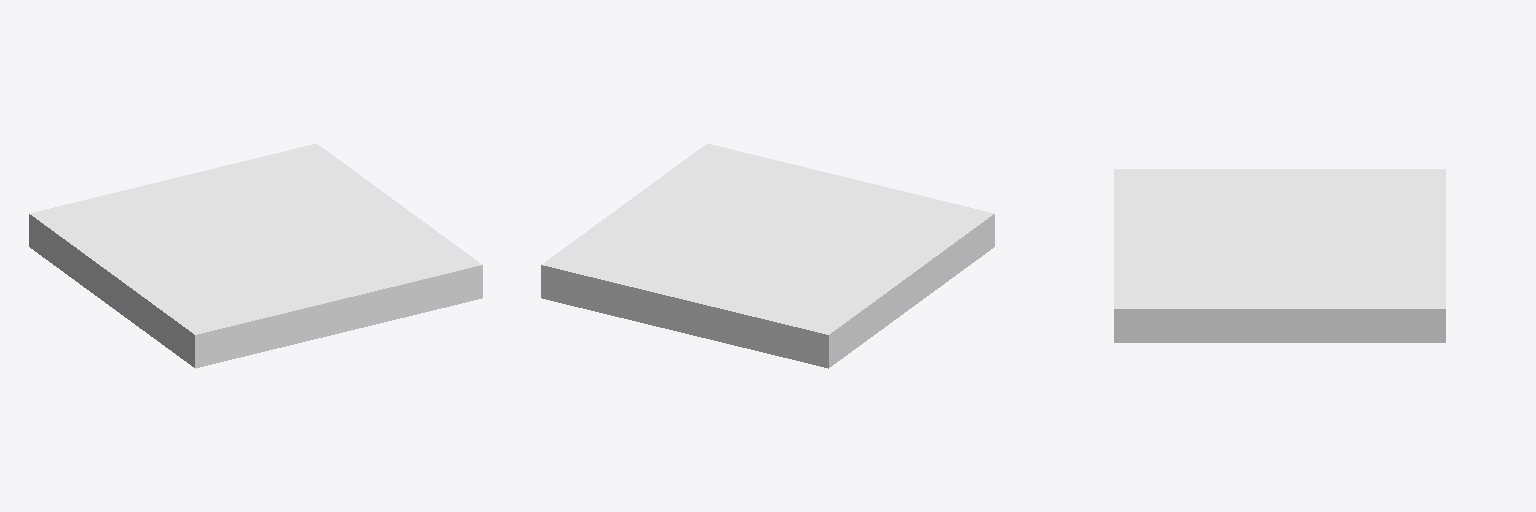
Rendered from puzzle_pattern_keys.obj.
The picture shows the model from 3 angles: view 1: azimuth 30°, elevation 25°; view 2: azimuth 150°, elevation 25°; view 3: azimuth 270°, elevation 25°; orthographic projection.
Visible parts, largest first — view 1: puzzle_pattern_keys; view 2: puzzle_pattern_keys; view 3: puzzle_pattern_keys.
Part boxes in pixels (x1,y1,x2,y2): puzzle_pattern_keys: (29,143,482,368); puzzle_pattern_keys: (541,143,994,368); puzzle_pattern_keys: (1114,169,1445,342).
Size of the model in its own units: 9 by 1 by 9.